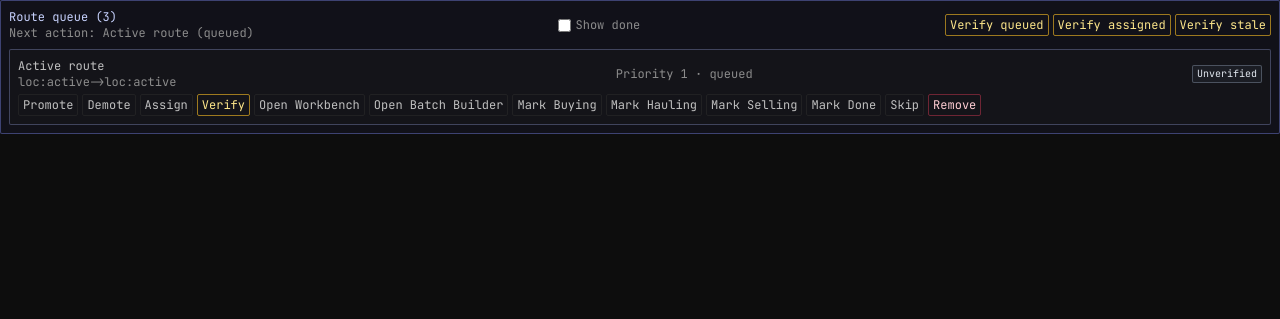
Test: RouteQueuePanel › hides done and skipped entries by default
Expected: the text "Done route" is not shown
Expected: the text "Skipped route" is not shown
Step 1. Click the checkbox labelled "Show done" → (565, 25), box [558, 18, 572, 32]
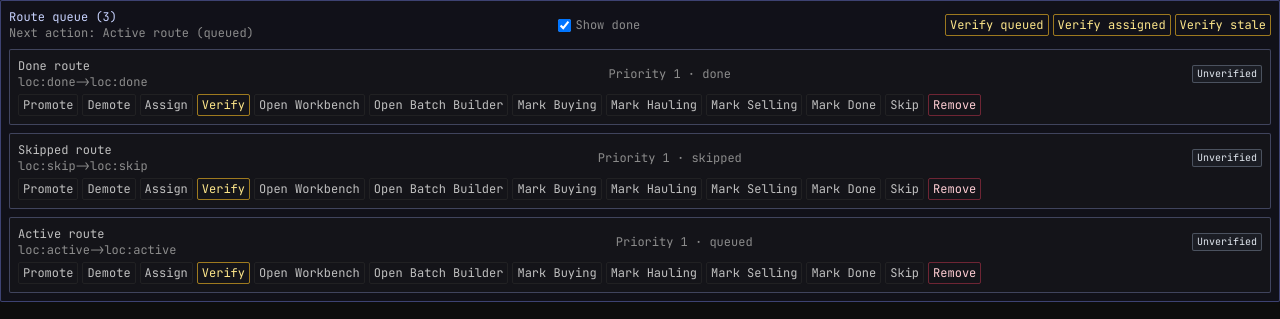
Result: the text "Done route" is shown at [18, 58, 90, 74]
Result: the text "Skipped route" is shown at [18, 142, 112, 158]
